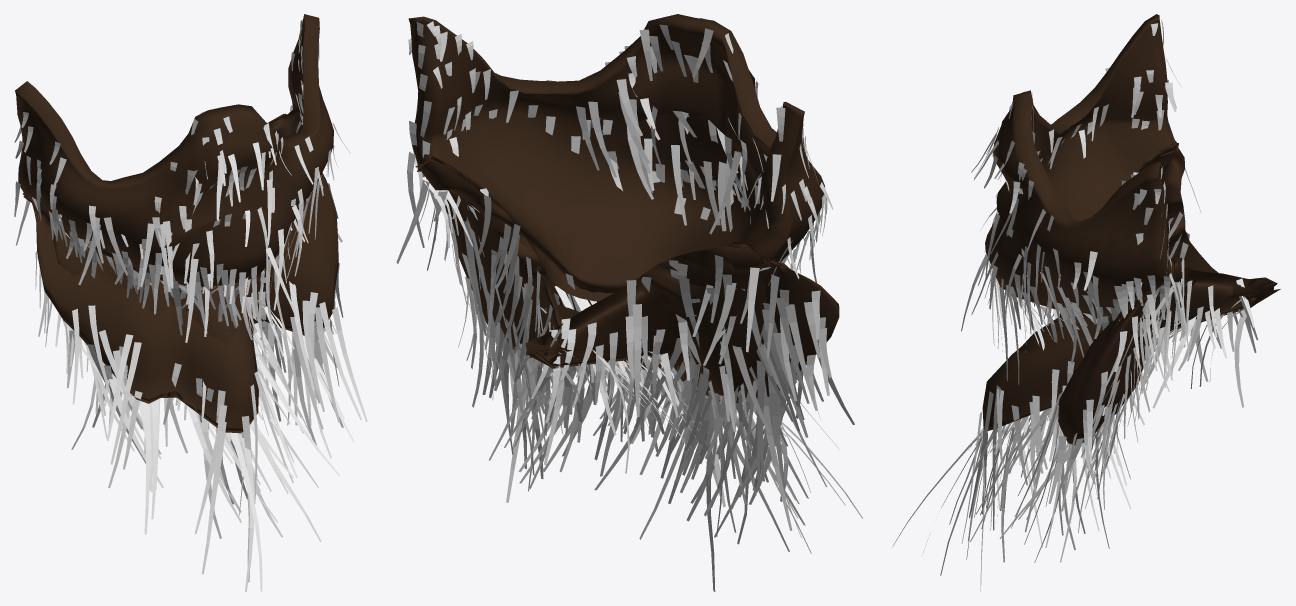
File: beard-warden-short.glb
The picture shows the model from 3 angles, left to right: view 1: azimuth 30°, elevation 25°; view 2: azimuth 150°, elevation 25°; view 3: azimuth 270°, elevation 25°; orthographic projection. The views are drawn at different scales.
Parts seen in each view (by area): view 1: beard-warden-short_1, beard__strands; view 2: beard-warden-short_1, beard__strands; view 3: beard-warden-short_1, beard__strands.
Part boxes in pixels (box(x1,y1,x2,y2)): beard-warden-short_1: box(15, 14, 338, 433); beard__strands: box(14, 19, 367, 591); beard-warden-short_1: box(408, 14, 839, 403); beard__strands: box(396, 18, 863, 591); beard-warden-short_1: box(982, 14, 1280, 445); beard__strands: box(892, 19, 1258, 591).
Bounding box in the file's own units: 0.1612 × 0.2392 × 0.1673.
